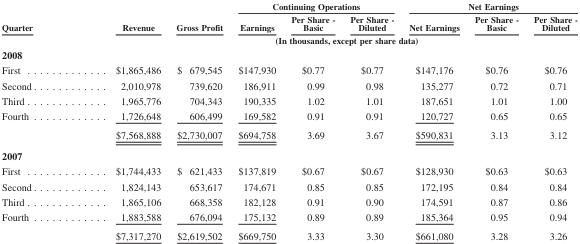table: (1, 0, 576, 241)
table column: (75, 0, 167, 241), (1, 0, 75, 241), (400, 0, 466, 241), (167, 0, 229, 241), (282, 0, 341, 241), (341, 0, 400, 241), (466, 0, 525, 241), (229, 0, 282, 241), (525, 0, 576, 241)
table column header: (1, 0, 576, 46)
table projected row header: (1, 144, 576, 163), (1, 46, 576, 62)
table row: (1, 12, 576, 33), (1, 124, 576, 144), (1, 144, 576, 163), (1, 107, 576, 124), (1, 208, 576, 225), (1, 46, 576, 62), (1, 225, 576, 241), (1, 62, 576, 77), (1, 77, 576, 92), (1, 92, 576, 107), (1, 163, 576, 178), (1, 178, 576, 193), (1, 193, 576, 208), (1, 33, 576, 46), (1, 0, 576, 12)
table spanning cell: (75, 33, 576, 46), (1, 0, 75, 46), (75, 0, 167, 33), (400, 0, 576, 12), (229, 0, 400, 12), (167, 0, 229, 33)
